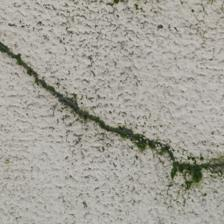Crack: (48, 64, 123, 161), (115, 36, 221, 82)
